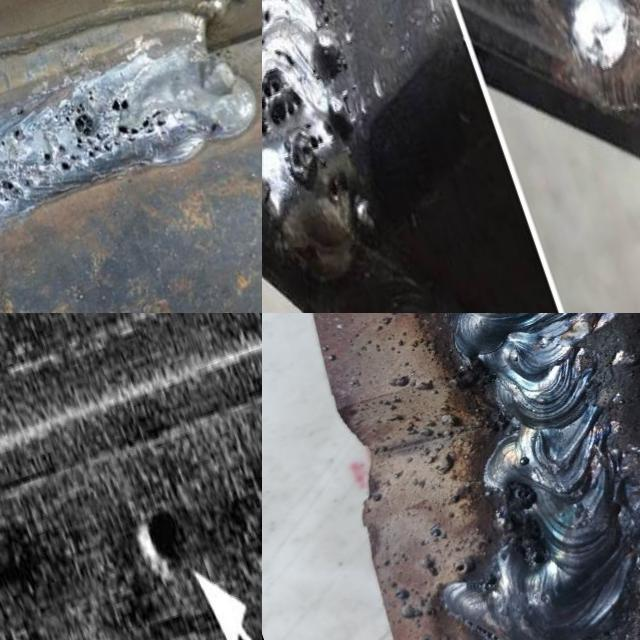defect: (37, 90, 176, 175), (129, 485, 196, 568), (262, 60, 305, 143), (281, 121, 325, 186), (506, 477, 541, 510), (4, 124, 28, 145), (528, 549, 549, 567)
